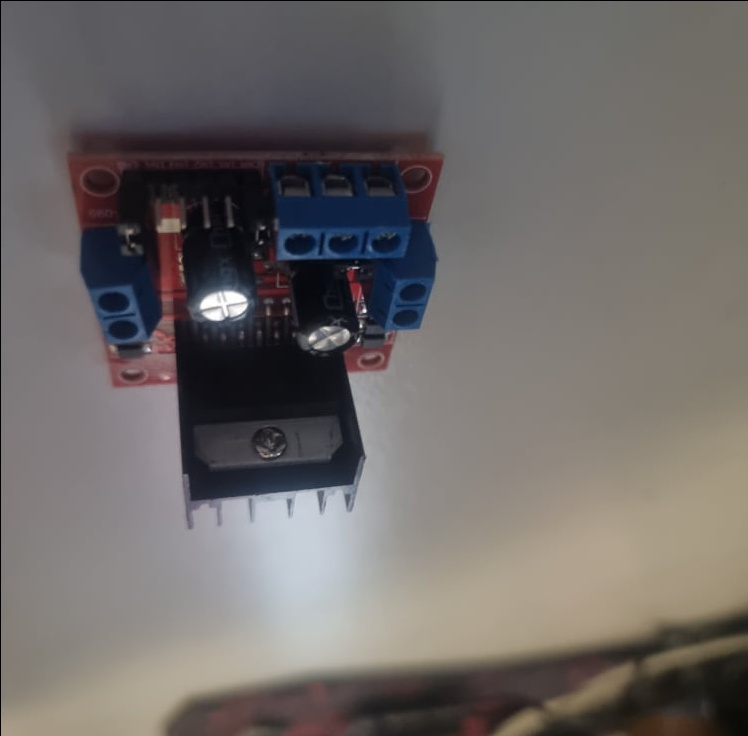MOTOR: (63, 144, 442, 528)
